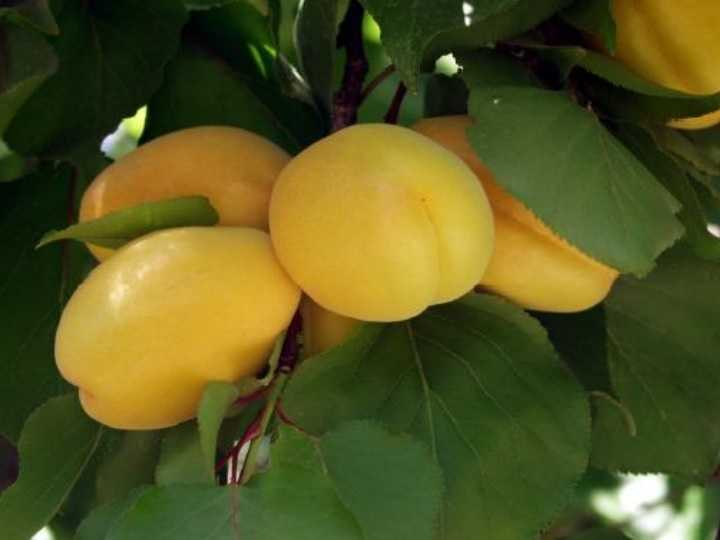Apricot: (37, 224, 304, 430), (260, 117, 498, 330)
